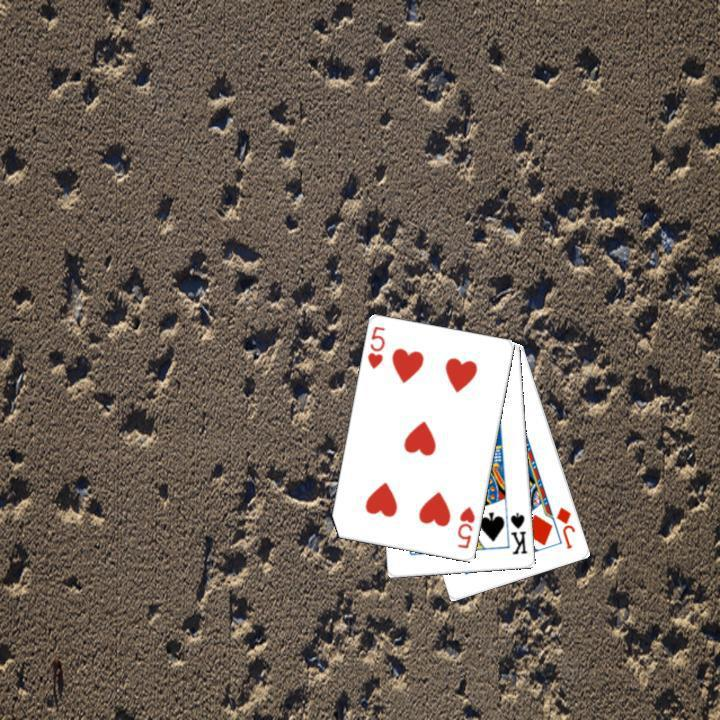5: (363, 322, 387, 371), (453, 503, 477, 551)
J: (552, 503, 578, 551)
K: (507, 508, 530, 557)
